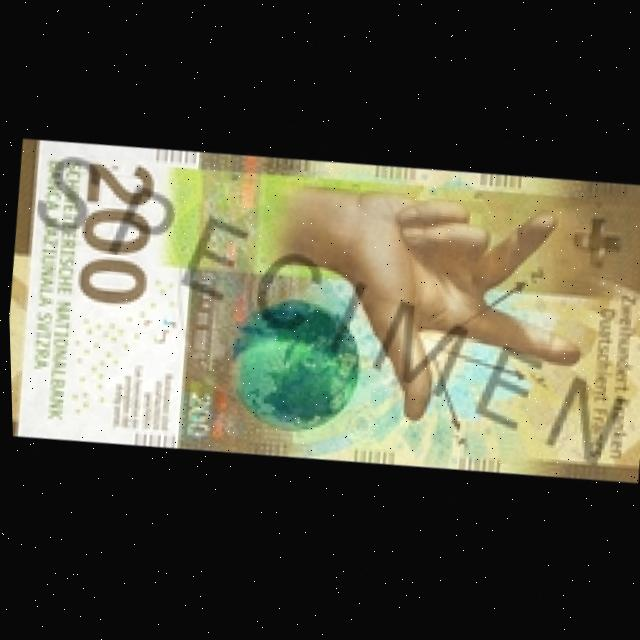banknote: (3, 121, 640, 501), (59, 159, 164, 314), (173, 386, 223, 443)
